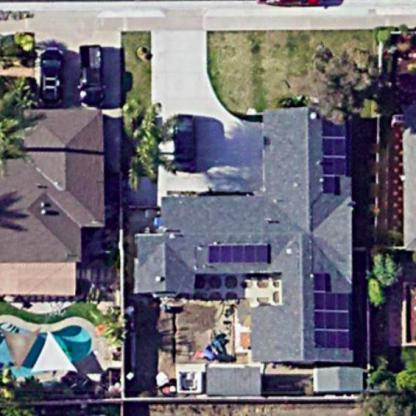car: (72, 42, 110, 105), (167, 106, 198, 173), (36, 41, 63, 107)
solar_panel: (310, 263, 351, 355), (318, 113, 347, 202), (201, 239, 276, 269)
swimming_pool: (1, 305, 99, 384)
